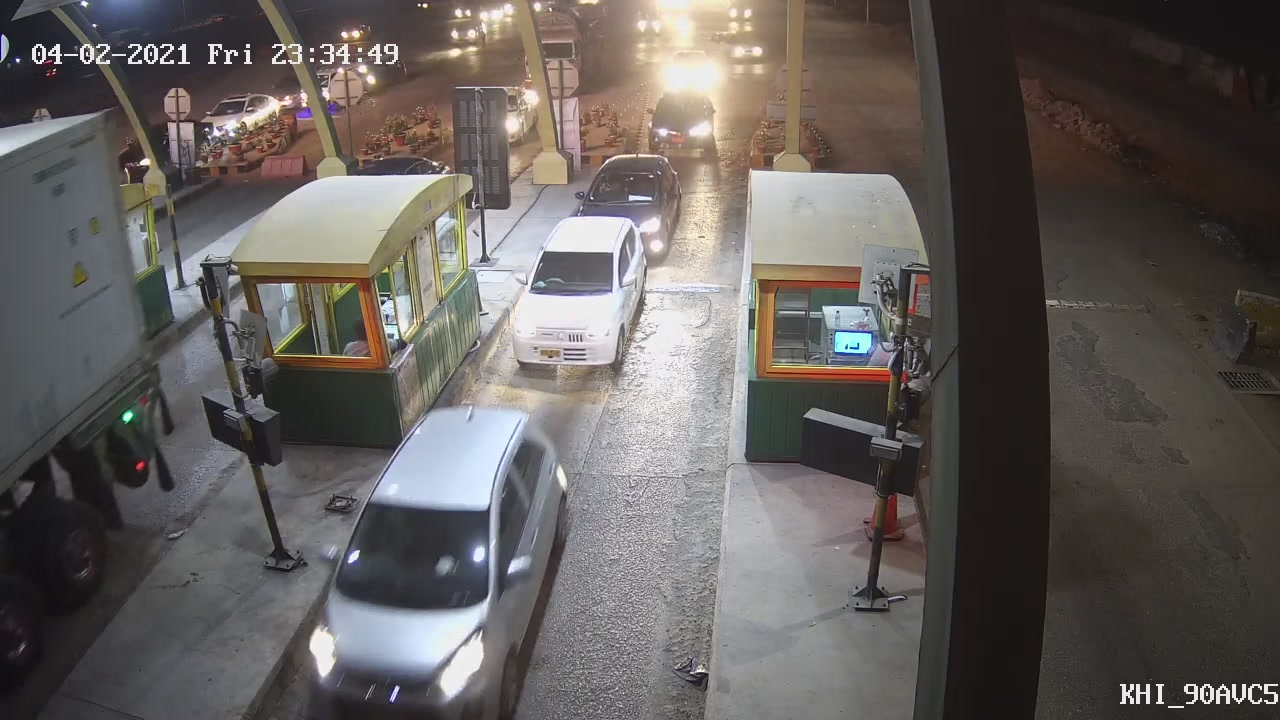F1: (510, 208, 653, 375)
